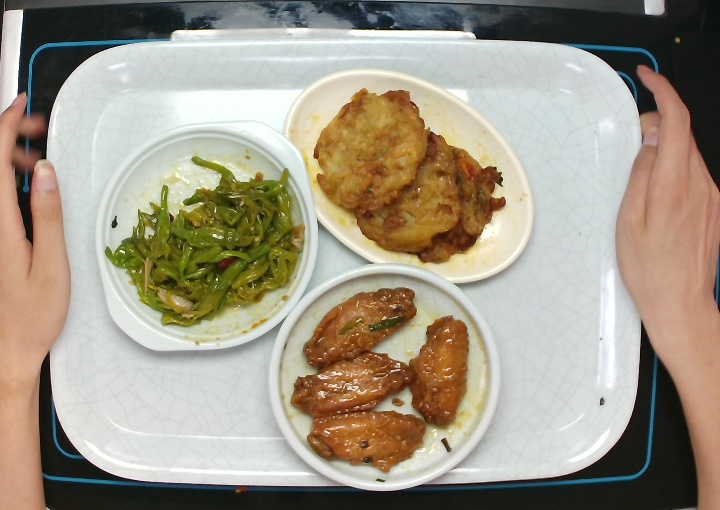JYsf-Shuang_Er_Pan: (92, 115, 322, 358)
JYsf-Tuo_Yuan_Wan: (282, 66, 540, 290)
JYsf-Xiao_Yuan_Pan: (261, 261, 507, 496)
